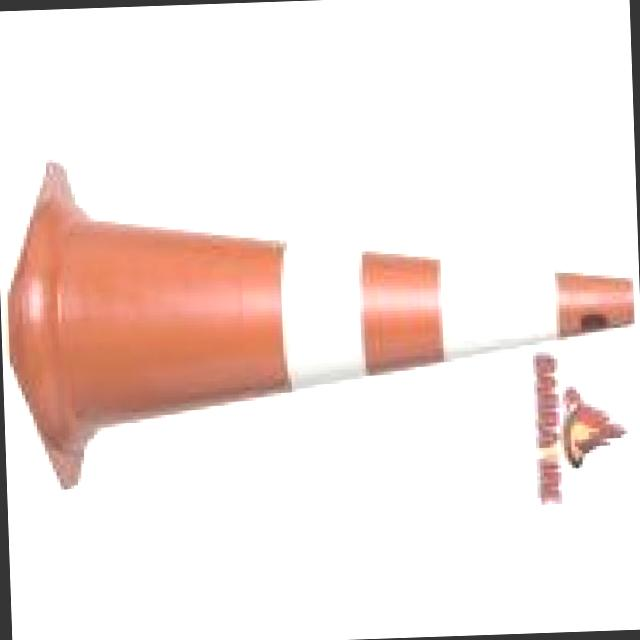cone: (0, 140, 636, 490)
